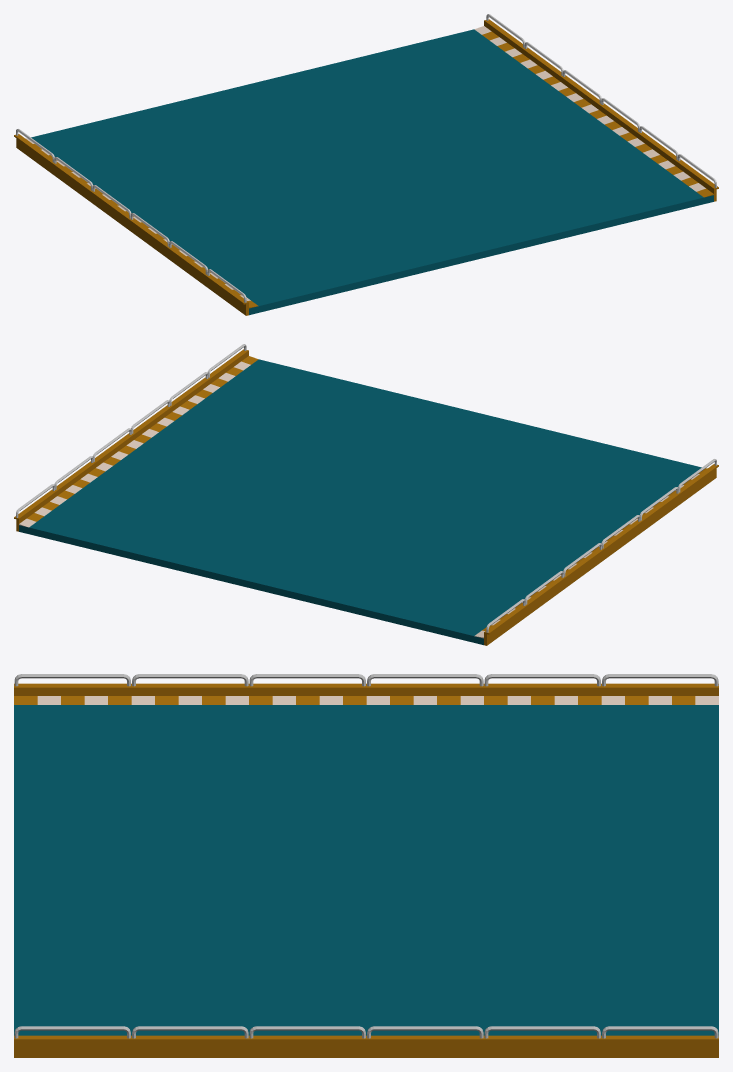
File: straight_ultraWide.FBX
3 views of the same model, one above another, from view 1: azimuth 30°, elevation 25°; view 2: azimuth 150°, elevation 25°; view 3: azimuth 270°, elevation 25° (orthographic). The views are drawn at different scales.
Visible parts, largest first — view 1: straight-ultraWide_l, wall_r, wall_l, curbs_l, curbs_r; view 2: straight-ultraWide_l, wall_r, wall_l, curbs_l, curbs_r; view 3: straight-ultraWide_l, wall_l, wall_r, curbs_r.
Boxes of the visible parts, <box> form: straight-ultraWide_l: <box>31,29,713,315</box>; wall_r: <box>14,129,248,315</box>; wall_l: <box>484,14,718,201</box>; curbs_l: <box>474,26,713,197</box>; curbs_r: <box>25,138,258,308</box>; straight-ultraWide_l: <box>19,359,701,645</box>; wall_r: <box>484,459,718,645</box>; wall_l: <box>14,344,248,531</box>; curbs_l: <box>19,356,258,527</box>; curbs_r: <box>474,468,707,638</box>; straight-ultraWide_l: <box>14,705,718,1035</box>; wall_l: <box>14,1026,718,1057</box>; wall_r: <box>14,674,718,695</box>; curbs_r: <box>14,696,718,704</box>.
Size of what is drawn, in the model's own units: 716 by 600 by 29.31.
